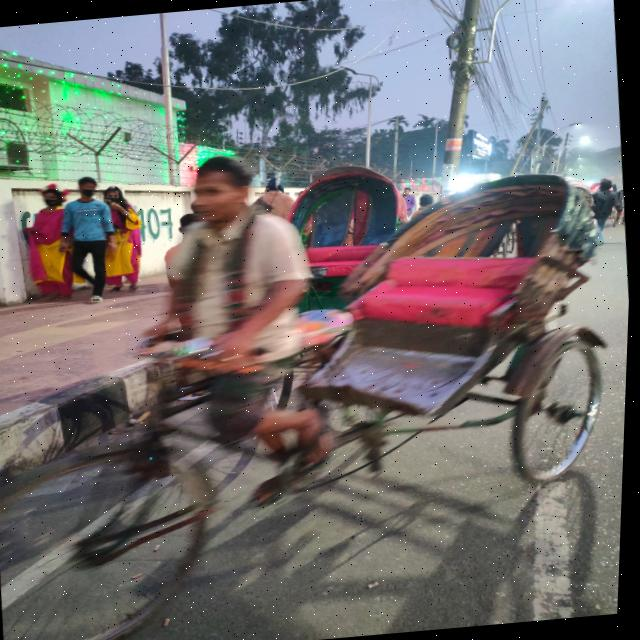rikshaw: (0, 140, 622, 640)
